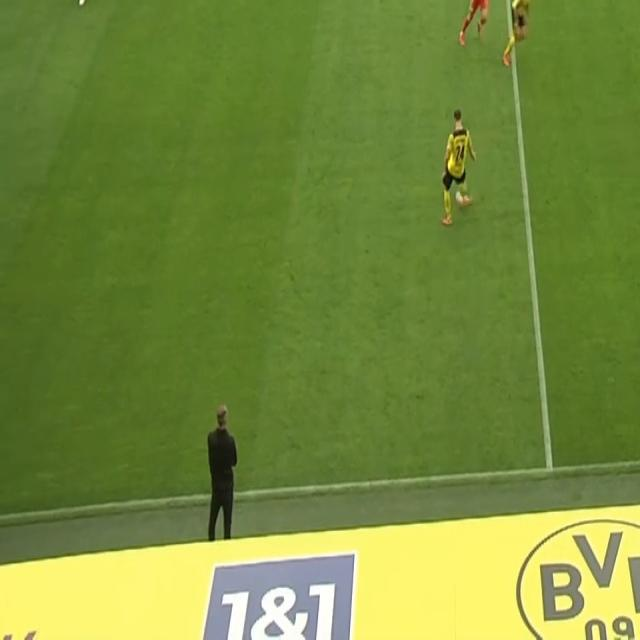ball: (454, 187, 466, 207)
